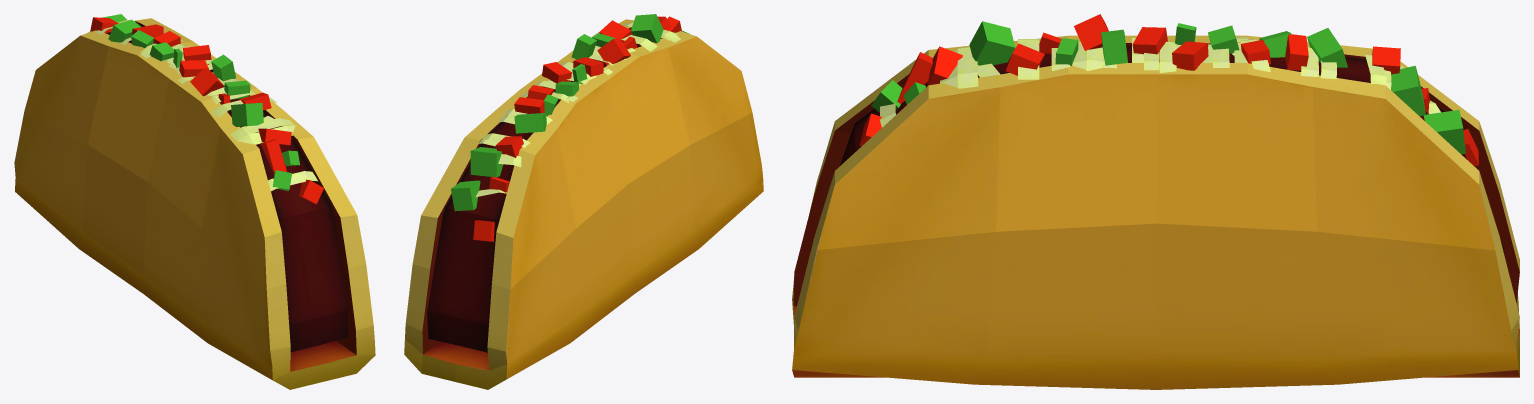
File: taco.glb
The picture shows the model from 3 angles, left to right: view 1: azimuth 30°, elevation 25°; view 2: azimuth 150°, elevation 25°; view 3: azimuth 270°, elevation 25°; orthographic projection. The views are drawn at different scales.
Parts seen in each view (by area): view 1: Kocka.060; view 2: Kocka.060; view 3: Kocka.060.
Boxes of the visible parts, x1,y1,x2,y2 form: Kocka.060: (14, 14, 375, 389); Kocka.060: (404, 14, 763, 389); Kocka.060: (792, 14, 1519, 389).
Size of the model in its own units: 0.5524 by 1.2 by 2.37.
51 materials, 27 textured.
